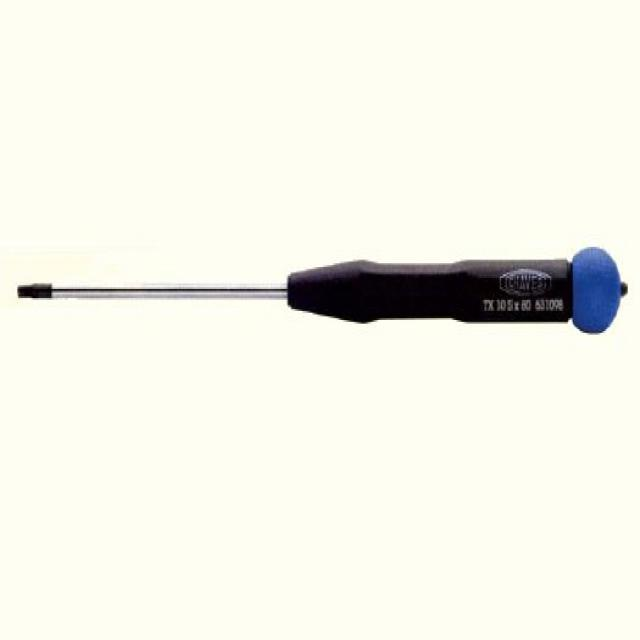screwdriver: (0, 226, 630, 356)
